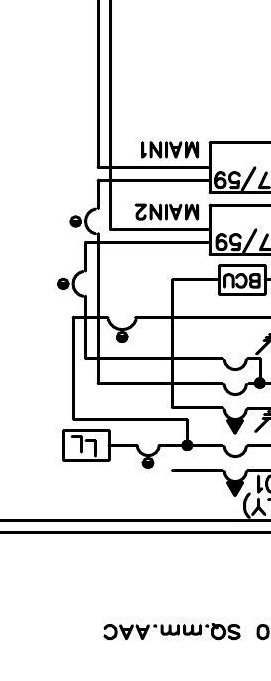BCU: (217, 263, 268, 297)
LL: (62, 429, 111, 462)
